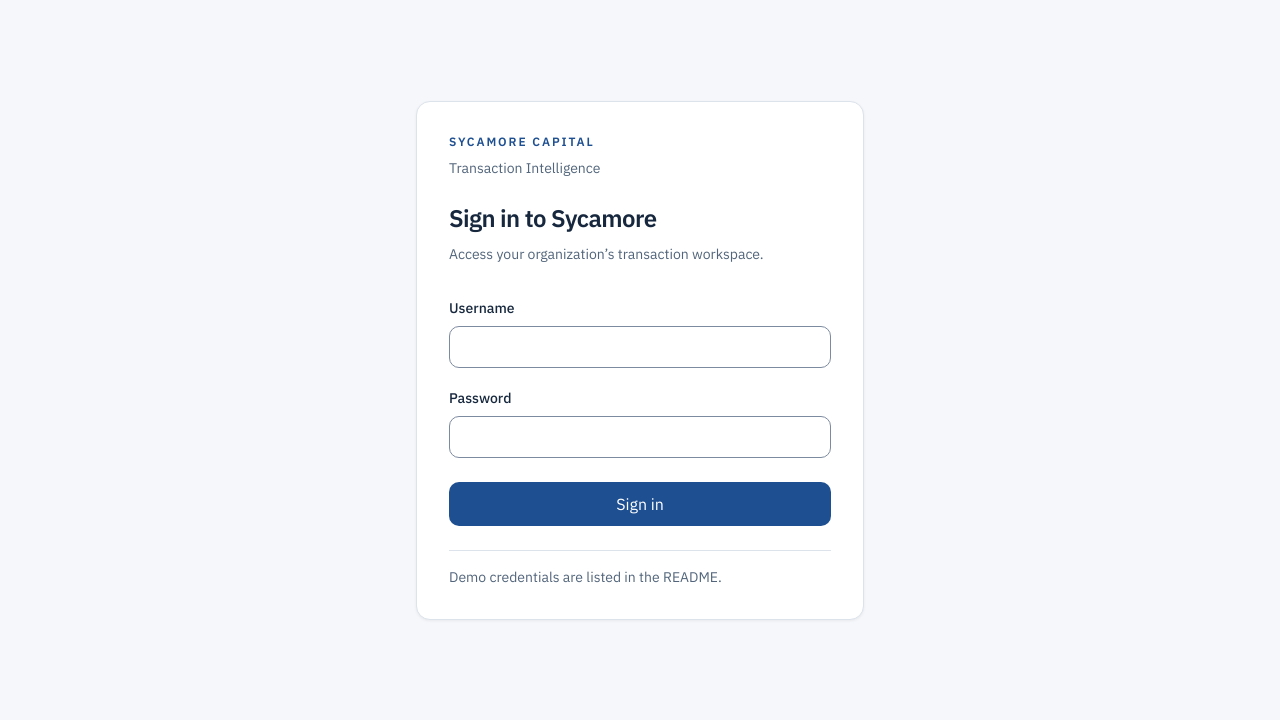
transaction review detail flow › reports a detail request failure accessibly
Type "analyst@example.test" into the field labelled "Username".
click(640, 346); type("analyst@example.test")  # box [449,326,831,368]
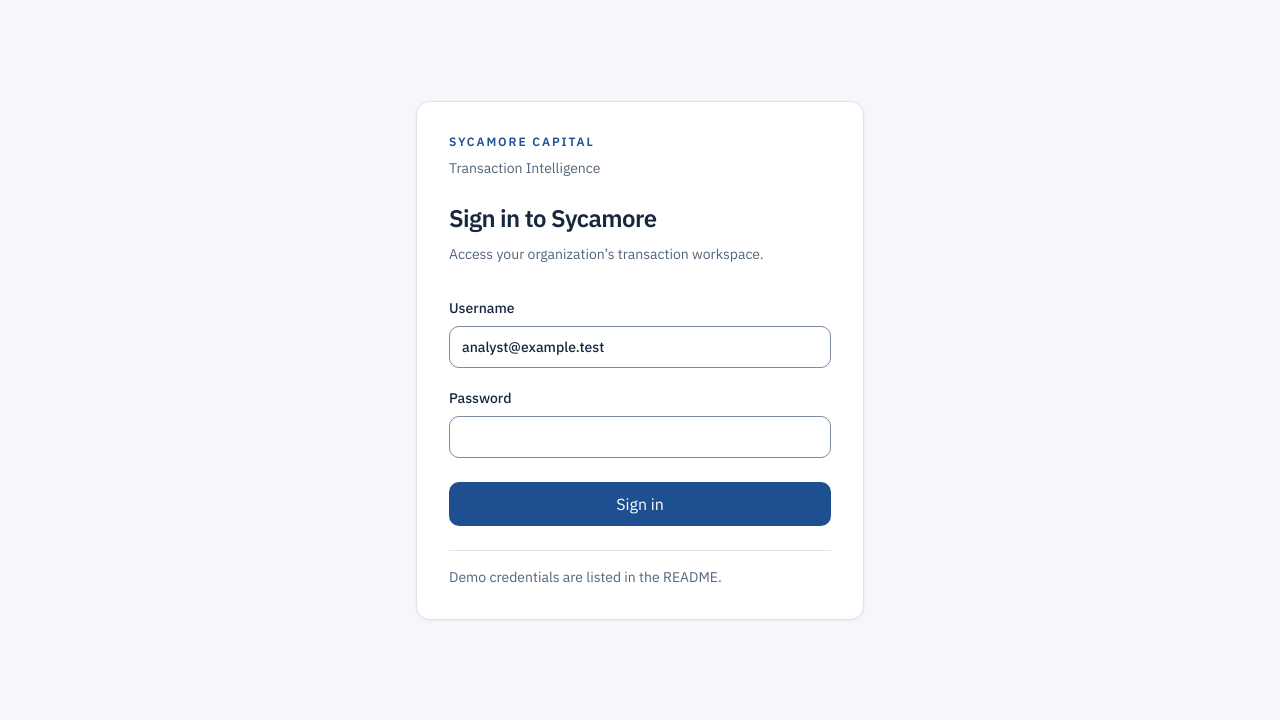
Type "password" into the password field labelled "Password".
click(640, 436); type("password")  # box [449,416,831,458]
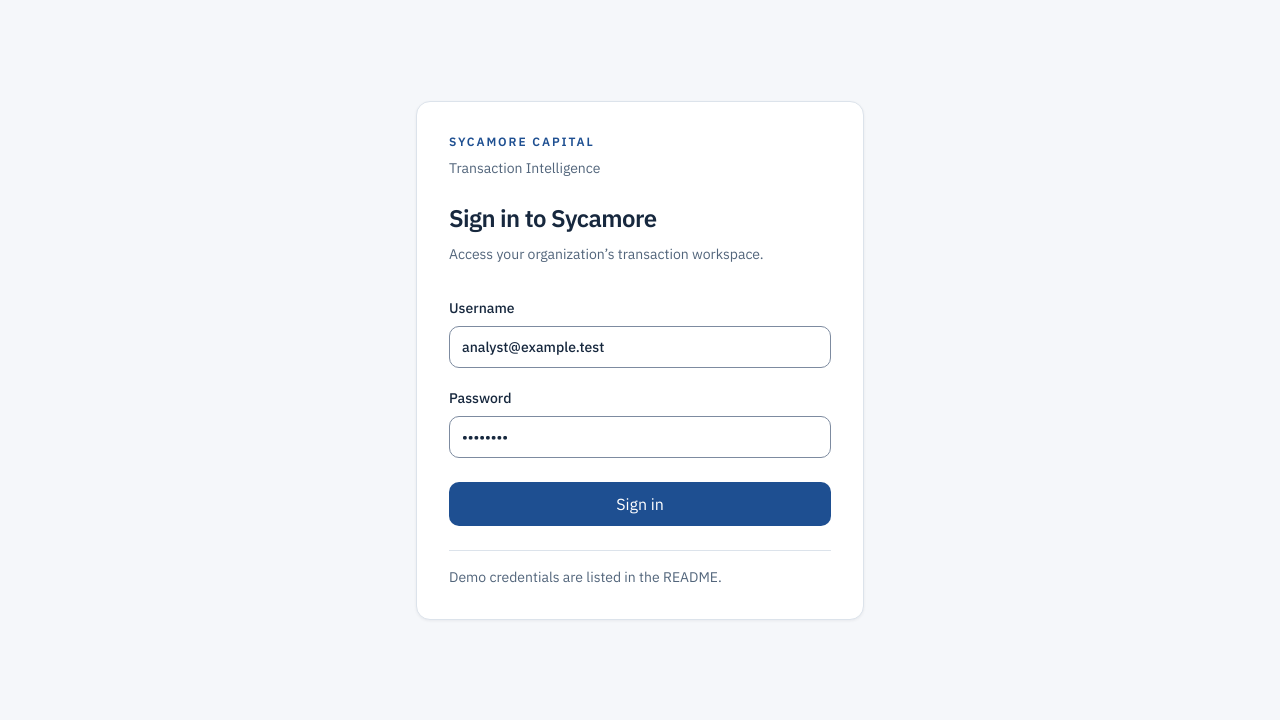
Click the button "Sign in".
click(640, 504)  # box [449,482,831,526]
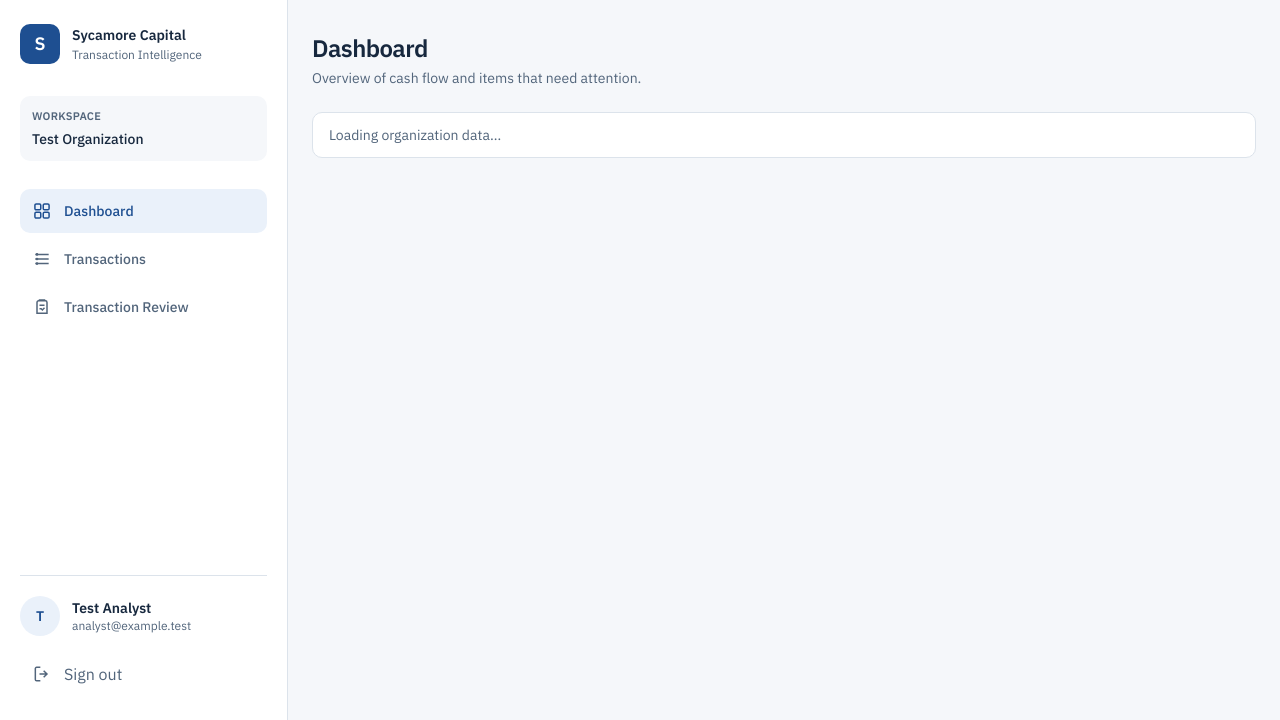
Click the link "Transaction Review".
click(110, 306)  # box [32,296,189,316]
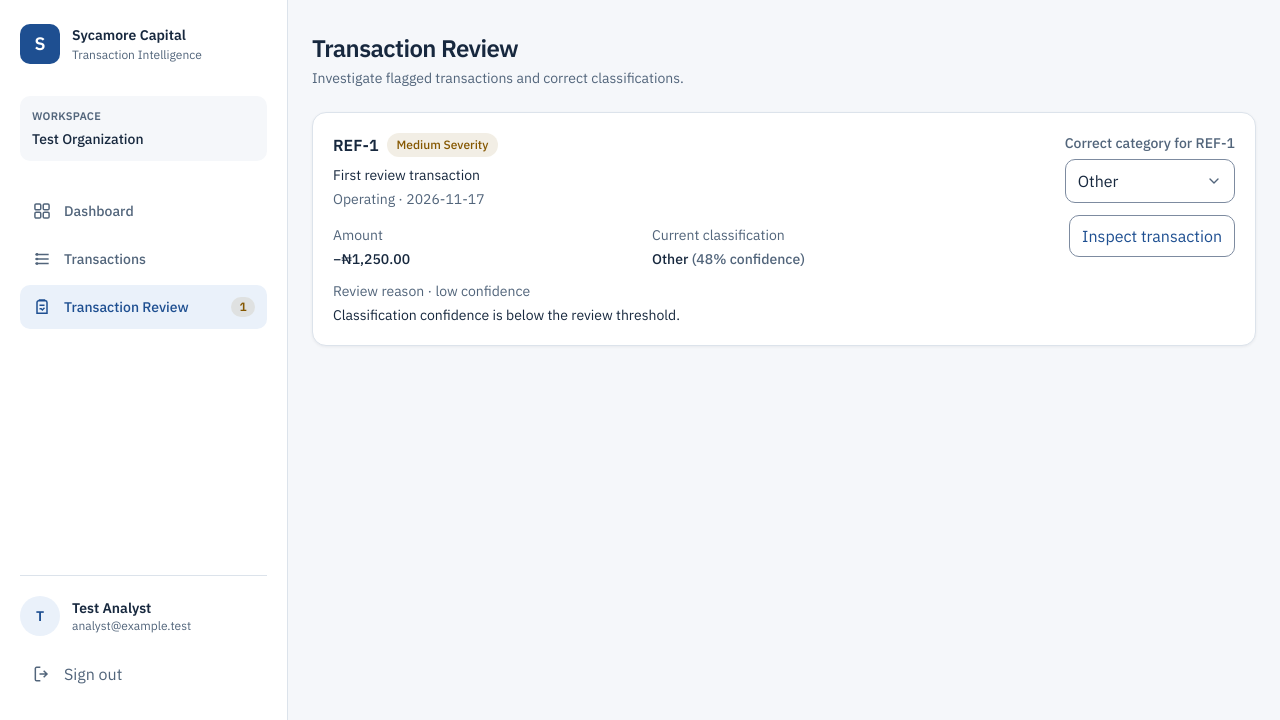
Click the button with aria-label "Inspect REF-1".
click(1152, 236)  # box [1069,215,1235,257]
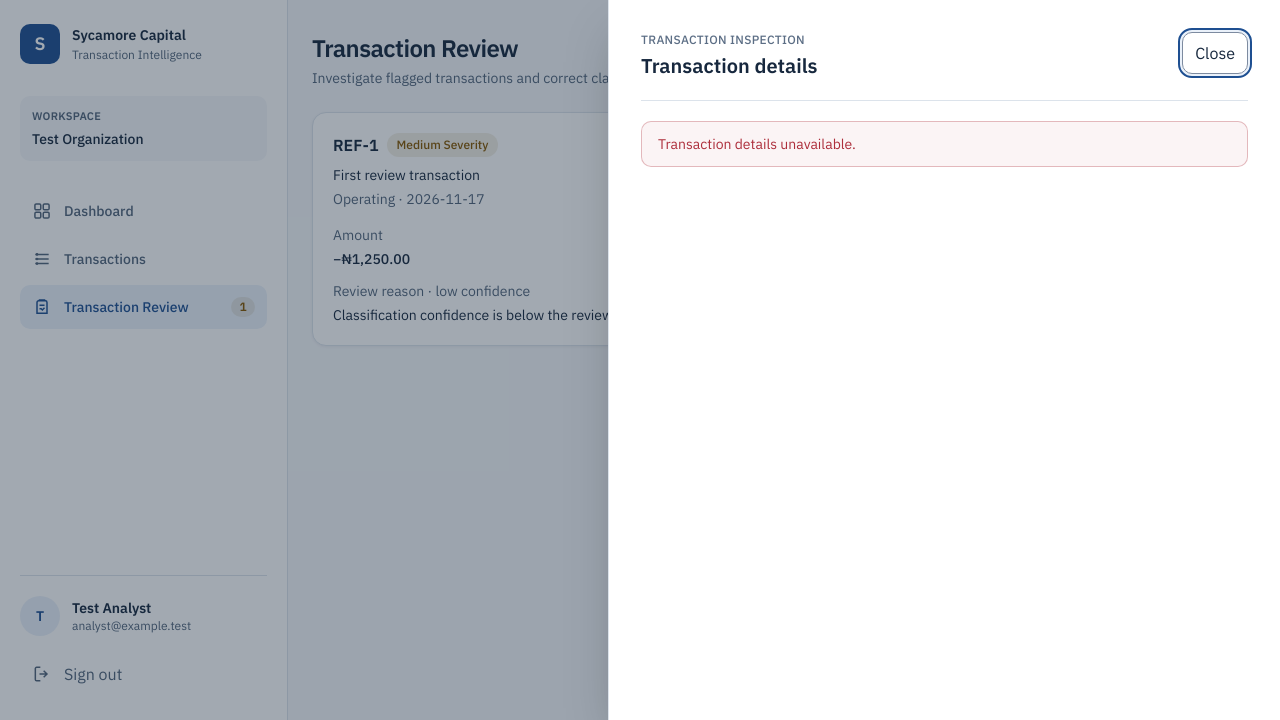
expect the message reads "Transaction details unavailable.": met, box [658,135,856,153]
